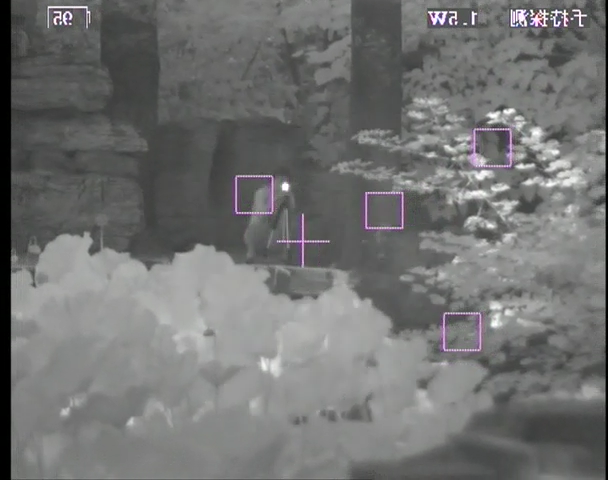my: (279, 180, 291, 194)
